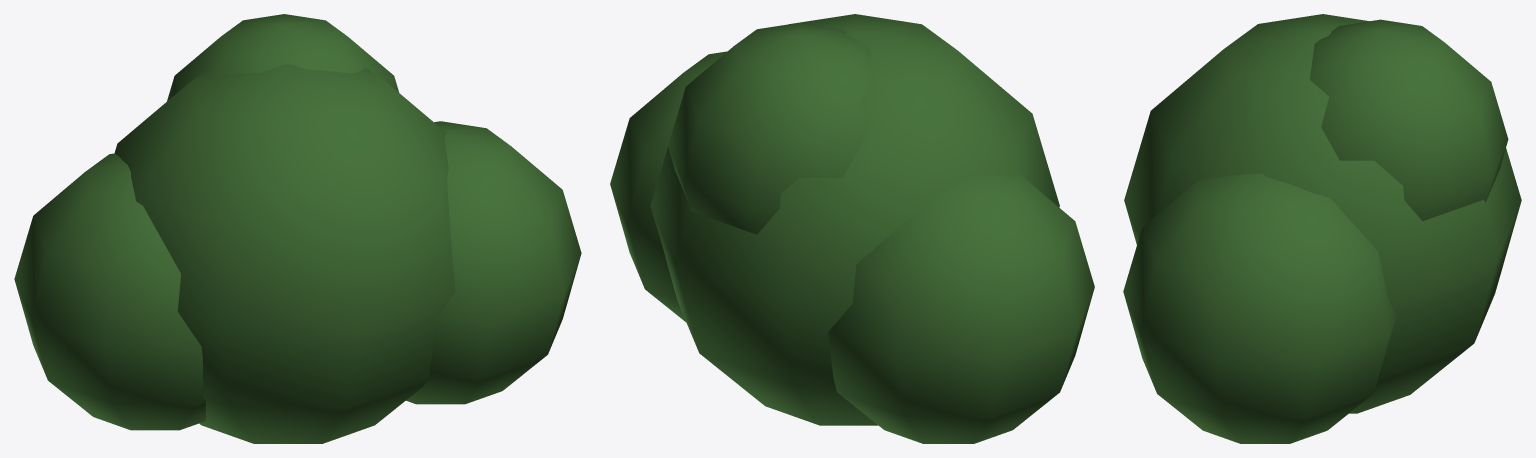
The model's file is cp_bush.glb.
3 renders of one model, left to right at view 1: azimuth 30°, elevation 25°; view 2: azimuth 150°, elevation 25°; view 3: azimuth 270°, elevation 25°, orthographic. The views are drawn at different scales.
Parts seen in each view (by area): view 1: city_cp_bush; view 2: city_cp_bush; view 3: city_cp_bush.
Boxes of the visible parts, bbox=[...] form: city_cp_bush: bbox=[14, 14, 581, 443]; city_cp_bush: bbox=[610, 14, 1094, 443]; city_cp_bush: bbox=[1123, 14, 1521, 443].
Bounding box in the file's own units: 1.92 × 1.45 × 1.38.
1 material, 1 textured.
